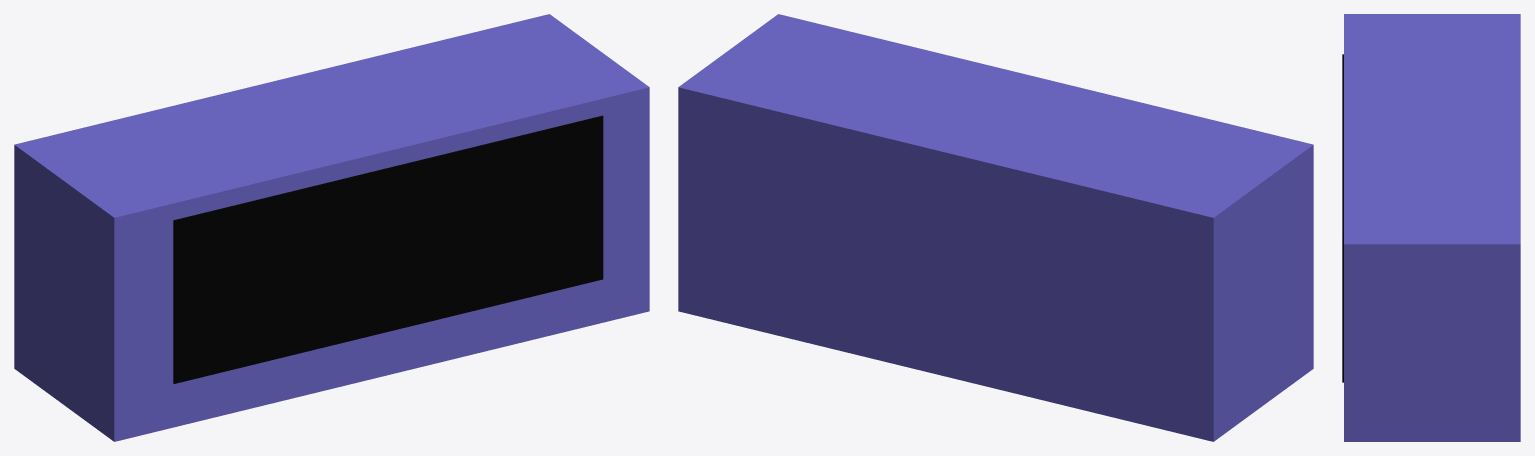
File: PrototypeClock.obj
3 renders of one model, left to right at view 1: azimuth 30°, elevation 25°; view 2: azimuth 150°, elevation 25°; view 3: azimuth 270°, elevation 25°, orthographic. The views are drawn at different scales.
Visible parts, largest first — view 1: mergedBlocks; view 2: mergedBlocks; view 3: mergedBlocks.
Part boxes in pixels (x1,y1,x2,y2): mergedBlocks: (14,14,649,441); mergedBlocks: (678,14,1313,441); mergedBlocks: (1342,14,1520,441).
Size of the model in its own units: 1 by 0.4 by 0.3268.
